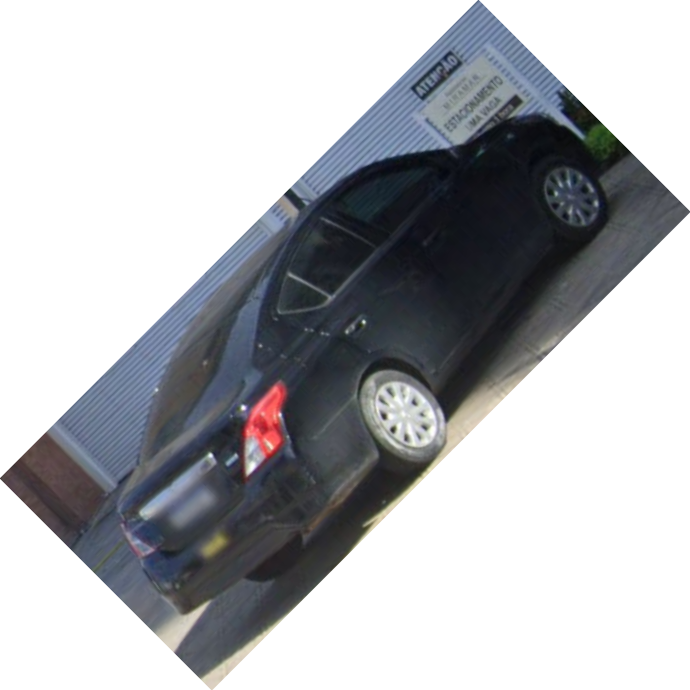car: (112, 112, 609, 614)
